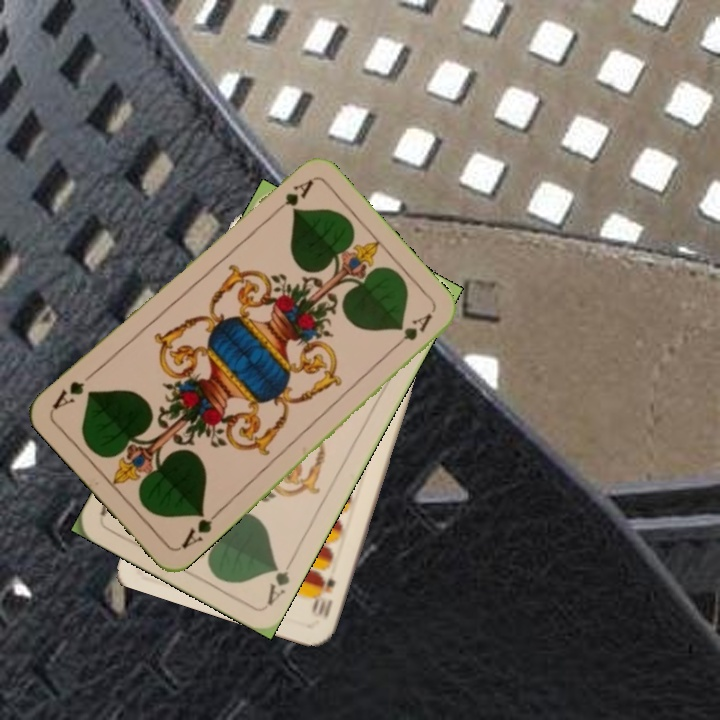E10: (307, 571, 338, 621)
GA: (267, 175, 316, 220), (176, 506, 223, 552), (262, 555, 297, 608)
